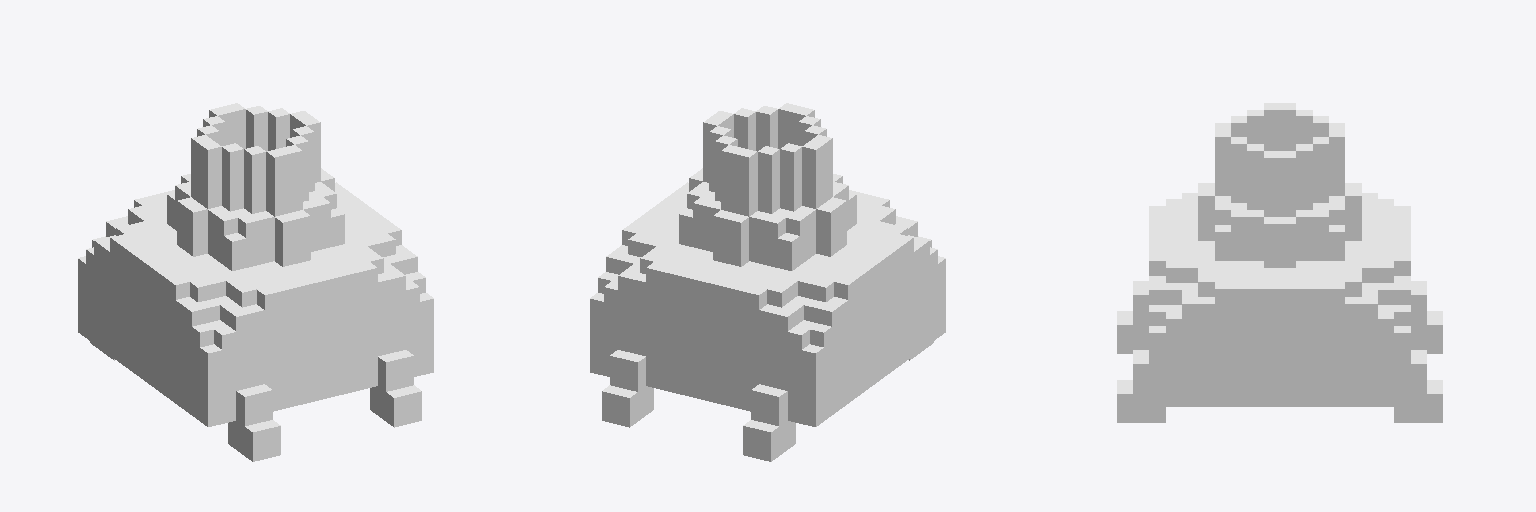
The model's file is turrent.obj.
3 renders of one model, left to right at view 1: azimuth 30°, elevation 25°; view 2: azimuth 150°, elevation 25°; view 3: azimuth 270°, elevation 25°, orthographic.
Visible parts, largest first — view 1: object 1; view 2: object 1; view 3: object 1.
Boxes of the visible parts, x1=… form: object 1: x1=78, y1=103, x2=433, y2=461; object 1: x1=590, y1=103, x2=945, y2=461; object 1: x1=1117, y1=103, x2=1442, y2=422.
Size of the model in its own units: 1.6 by 1.7 by 2.